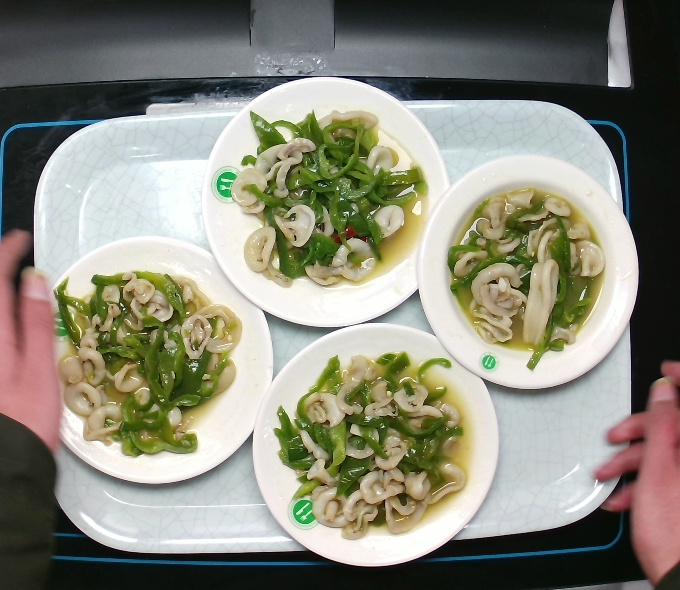wcq-QingJiaoYouYu: (48, 262, 248, 459), (437, 176, 637, 373), (270, 344, 470, 541), (233, 103, 433, 300)
